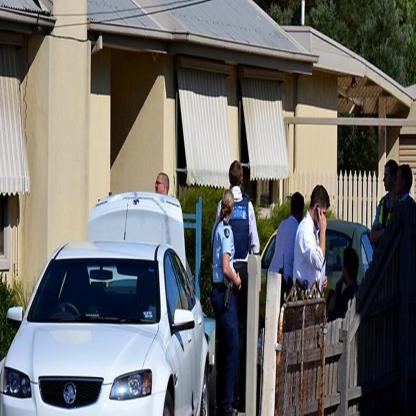face: (384, 169, 394, 192), (316, 207, 328, 225), (396, 170, 405, 194), (156, 175, 165, 198), (343, 258, 350, 282)
